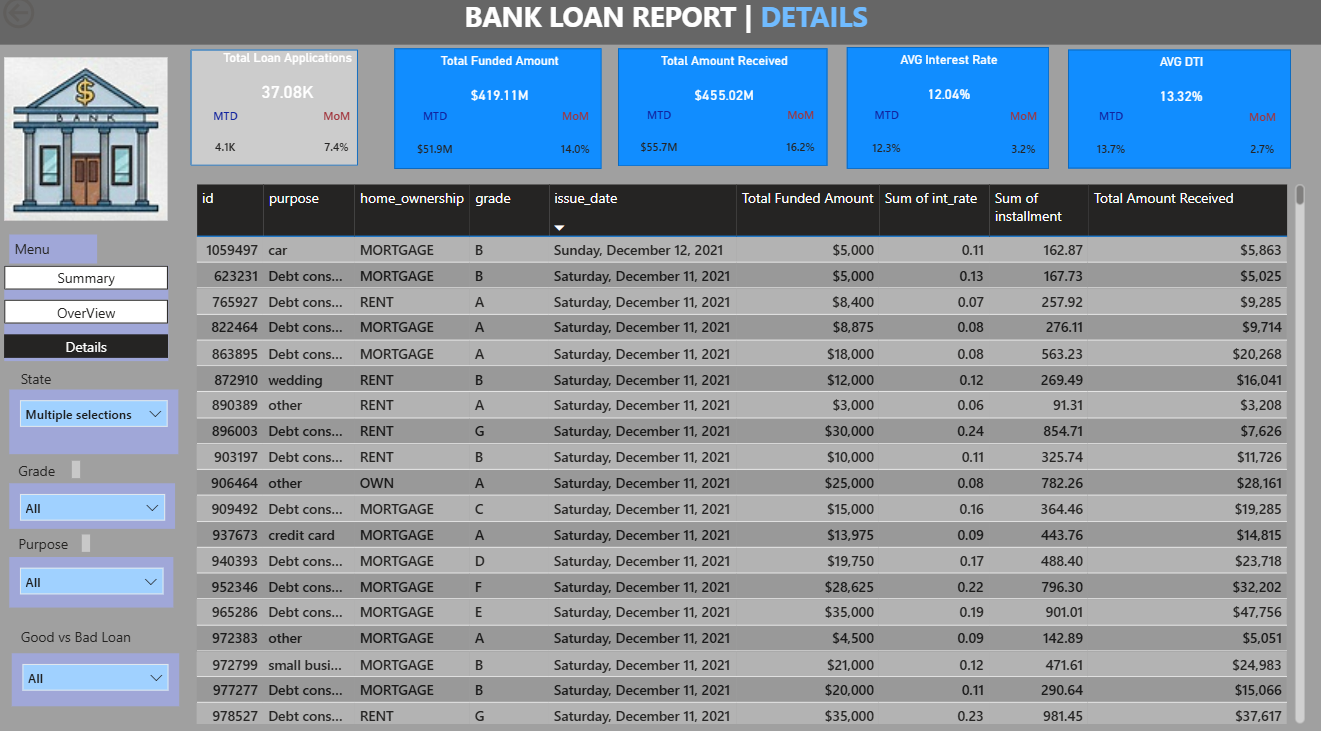

This screenshot's page, from the dashboard's own definition file:
{"tool":"powerbi","page":{"name":"Details","canvas":[1280,720],"ordinal":2},"visuals":[{"type":"shape","box":[0,0,1280,50.8],"z":0},{"type":"shape","box":[701.6,53.6,162,98],"z":0,"group":"g4"},{"type":"shape","box":[873.8,53.8,162,98],"z":0,"group":"g5"},{"type":"shape","box":[357,54,162,98],"z":0,"group":"g2"},{"type":"shape","box":[530,54.3,162,98],"z":0,"group":"g3"},{"type":"shape","box":[183,55,162,98],"z":0,"group":"g1"},{"type":"textbox","box":[386.1,0,517.6,49.5],"z":1000},{"type":"card","title":"Total Loan Applications","fields":{"Values":["Bank_Loan_dataset.Total Loan Applications"]},"box":[208,55.9,137,48.1],"z":1000,"group":"g1"},{"type":"card","title":"AVG Interest Rate","fields":{"Values":["Bank_Loan_dataset.AVG Interest Rate"]},"box":[716,57.6,135.6,50],"z":1000,"group":"g4"},{"type":"card","title":"AVG DTI","fields":{"Values":["Bank_Loan_dataset.AVG DTI"]},"box":[888.2,57.8,135.6,50],"z":1000,"group":"g5"},{"type":"card","title":"Total Funded Amount","fields":{"Values":["Bank_Loan_dataset.Total Funded Amount"]},"box":[371.4,58,135.6,50],"z":1000,"group":"g2"},{"type":"card","title":"Total  Amount Received","fields":{"Values":["Bank_Loan_dataset.Total Amount REceived"]},"box":[544.4,58.3,135.6,50],"z":1000,"group":"g3"},{"type":"group","id":"g1","title":"Group 1","box":[183,55,162,98],"z":2000},{"type":"card","title":"MTD","fields":{"Values":["Bank_Loan_dataset.MTD AVG Interest Rate"]},"box":[708.3,102,50,50],"z":2000,"group":"g4"},{"type":"card","title":"MTD","fields":{"Values":["Bank_Loan_dataset.MTD AVG DTI"]},"box":[880.5,102.2,50,50],"z":2000,"group":"g5"},{"type":"card","title":"MTD","fields":{"Values":["Bank_Loan_dataset.MTD Funded Amount Applications"]},"box":[363.7,102.4,50,50],"z":2000,"group":"g2"},{"type":"card","title":"MTD","fields":{"Values":["Bank_Loan_dataset.MTD Total Amount Received"]},"box":[536.7,102.7,50,50],"z":2000,"group":"g3"},{"type":"card","title":"MTD","fields":{"Values":["Bank_Loan_dataset.MTD Loan Applications"]},"box":[196,104,41,49],"z":2000,"group":"g1"},{"type":"group","id":"g2","title":"Group 1","box":[357,54,162,98.4],"z":3000},{"type":"card","title":"MoM","fields":{"Values":["Bank_Loan_dataset.MOm AVG Interest Rate"]},"box":[822.6,102.6,41,49],"z":3000,"group":"g4"},{"type":"card","title":"MoM","fields":{"Values":["Bank_Loan_dataset.MoM AVG DTI"]},"box":[994.8,102.8,41,49],"z":3000,"group":"g5"},{"type":"card","title":"MoM","fields":{"Values":["Bank_Loan_dataset.MoM Total Funded Amount"]},"box":[478,103,41,49],"z":3000,"group":"g2"},{"type":"card","title":"MoM","fields":{"Values":["Bank_Loan_dataset.MoM Total Amount Recieved"]},"box":[651,103.3,41,49],"z":3000,"group":"g3"},{"type":"card","title":"MoM","fields":{"Values":["Bank_Loan_dataset.MoM Loan Applications"]},"box":[304,104,41,49],"z":3000,"group":"g1"},{"type":"group","id":"g3","title":"Group 1","box":[530,54.3,161.4,98.6],"z":4000},{"type":"group","id":"g4","title":"Group 1","box":[701.6,53.6,162,98.4],"z":5000},{"type":"group","id":"g5","title":"Group 1","box":[873.8,53.8,162.5,98.8],"z":6000},{"type":"slicer","fields":{"Values":["Bank_Loan_dataset.address_state"]},"box":[10.9,383.6,162.9,62.7],"z":7000},{"type":"textbox","box":[15.7,345,155.6,30.2],"z":8000},{"type":"slicer","fields":{"Values":["Bank_Loan_dataset.grade"]},"box":[11.4,474.3,160,44.3],"z":9000},{"type":"slicer","fields":{"Values":["Bank_Loan_dataset.purpose","Bank_Loan_dataset.grade"]},"box":[11.4,545.7,158.6,48.6],"z":10000},{"type":"textbox","box":[15.7,447.1,84.5,27.7],"z":11000},{"type":"textbox","box":[14.3,518.6,159.3,26.5],"z":12000},{"type":"slicer","fields":{"Values":["Bank_Loan_dataset.Good vs Bad Loan"]},"box":[12.9,638.6,161.4,51.4],"z":13000},{"type":"textbox","box":[17.1,608.6,155.7,30],"z":14000},{"type":"tableEx","fields":{"Values":["Bank_Loan_dataset.id","Bank_Loan_dataset.purpose","Bank_Loan_dataset.home_ownership","Bank_Loan_dataset.grade","Bank_Loan_dataset.issue_date","Bank_Loan_dataset.Total Funded Amount","Sum(Bank_Loan_dataset.int_rate)","Sum(Bank_Loan_dataset.installment)","Bank_Loan_dataset.Total Amount Received"]},"box":[183.4,182.2,1082.2,529.6],"z":15000},{"type":"actionButton","box":[0,0,100,40],"z":16000},{"type":"pageNavigator","box":[6.2,235,157.5,92.5],"z":17000},{"type":"image","box":[6.2,50,157.5,185],"z":18000}]}

Visuals, with their boxes on the page's 1280x720 design canvas (x1, y1, x2, y2). These are canvas units, not pixel positions in the 1321x731 screenshot, which may show the page scaled, cropped or inside an application window:
shape: bbox(0, 0, 1280, 51)
shape: bbox(702, 54, 864, 152)
shape: bbox(874, 54, 1036, 152)
shape: bbox(357, 54, 519, 152)
shape: bbox(530, 54, 692, 152)
shape: bbox(183, 55, 345, 153)
textbox: bbox(386, 0, 904, 50)
"Total Loan Applications" card: bbox(208, 56, 345, 104)
"AVG Interest Rate" card: bbox(716, 58, 852, 108)
"AVG DTI" card: bbox(888, 58, 1024, 108)
"Total Funded Amount" card: bbox(371, 58, 507, 108)
"Total  Amount Received" card: bbox(544, 58, 680, 108)
"Group 1" group: bbox(183, 55, 345, 153)
"MTD" card: bbox(708, 102, 758, 152)
"MTD" card: bbox(880, 102, 930, 152)
"MTD" card: bbox(364, 102, 414, 152)
"MTD" card: bbox(537, 103, 587, 153)
"MTD" card: bbox(196, 104, 237, 153)
"Group 1" group: bbox(357, 54, 519, 152)
"MoM" card: bbox(823, 103, 864, 152)
"MoM" card: bbox(995, 103, 1036, 152)
"MoM" card: bbox(478, 103, 519, 152)
"MoM" card: bbox(651, 103, 692, 152)
"MoM" card: bbox(304, 104, 345, 153)
"Group 1" group: bbox(530, 54, 691, 153)
"Group 1" group: bbox(702, 54, 864, 152)
"Group 1" group: bbox(874, 54, 1036, 153)
slicer - Bank_Loan_dataset.address_state: bbox(11, 384, 174, 446)
textbox: bbox(16, 345, 171, 375)
slicer - Bank_Loan_dataset.grade: bbox(11, 474, 171, 519)
slicer - Bank_Loan_dataset.purpose x Bank_Loan_dataset.grade: bbox(11, 546, 170, 594)
textbox: bbox(16, 447, 100, 475)
textbox: bbox(14, 519, 174, 545)
slicer - Bank_Loan_dataset.Good vs Bad Loan: bbox(13, 639, 174, 690)
textbox: bbox(17, 609, 173, 639)
tableEx - Bank_Loan_dataset.id x Bank_Loan_dataset.purpose: bbox(183, 182, 1266, 712)
actionButton: bbox(0, 0, 100, 40)
pageNavigator: bbox(6, 235, 164, 328)
image: bbox(6, 50, 164, 235)
